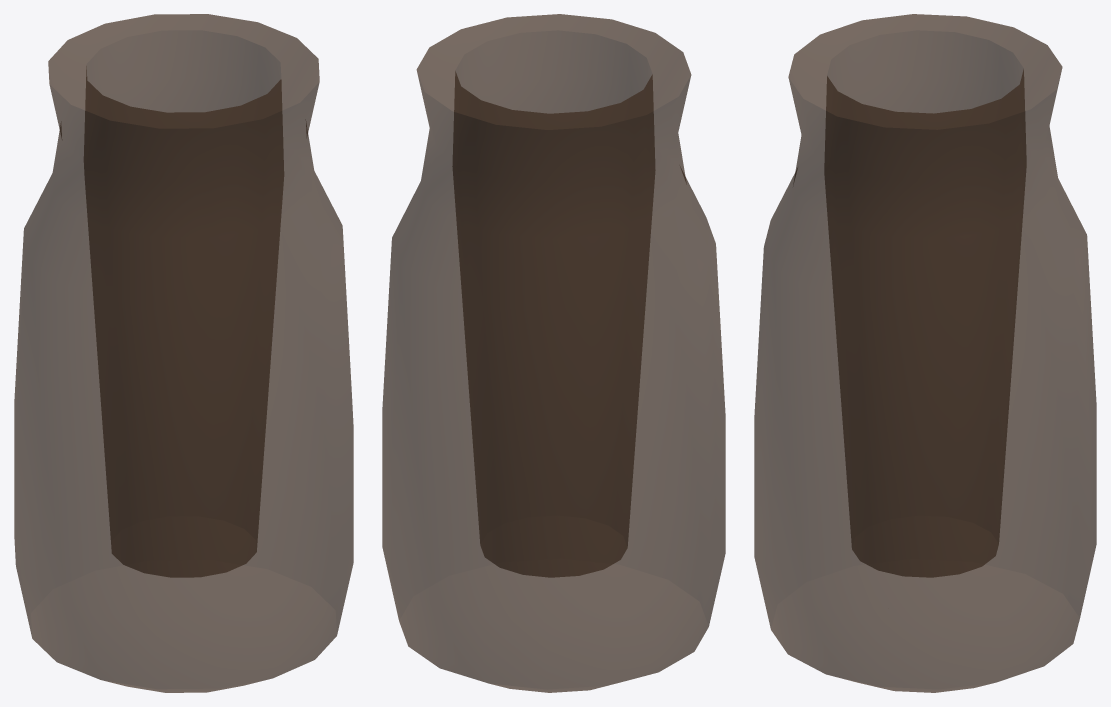
The model's file is botella4.fbx.
3 views of the same model, side by side, from view 1: azimuth 30°, elevation 25°; view 2: azimuth 150°, elevation 25°; view 3: azimuth 270°, elevation 25° (orthographic).
Visible parts, largest first — view 1: BotellaCristal3; view 2: BotellaCristal3; view 3: BotellaCristal3.
Part boxes in pixels (bbox=[...]): BotellaCristal3: bbox=[14, 14, 353, 692]; BotellaCristal3: bbox=[382, 14, 725, 692]; BotellaCristal3: bbox=[754, 14, 1096, 692].
Size of the model in its own units: 10.46 by 19.44 by 10.46.
